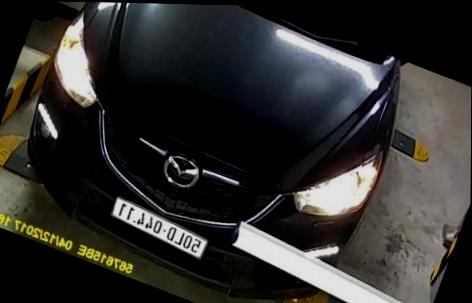License_Plate: (101, 192, 215, 256)
